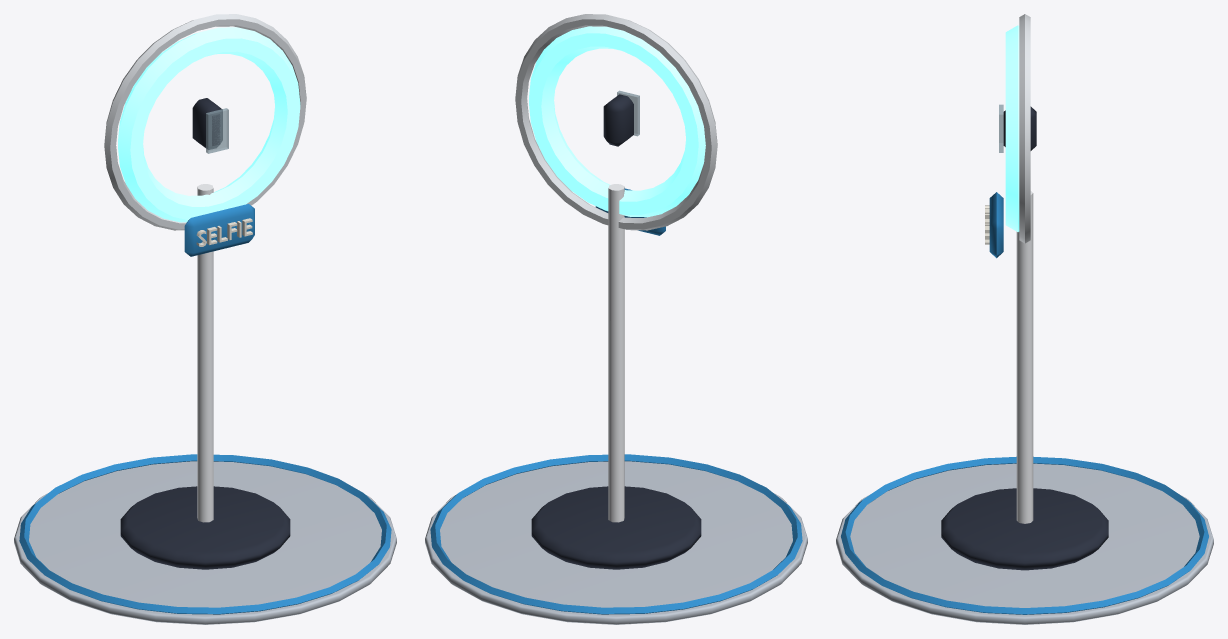
The model's file is selfie_totem.glb.
The picture shows the model from 3 angles, left to right: view 1: azimuth 30°, elevation 25°; view 2: azimuth 150°, elevation 25°; view 3: azimuth 270°, elevation 25°; orthographic projection.
Visible parts, largest first — view 1: selfie_totem; view 2: selfie_totem; view 3: selfie_totem.
Boxes of the visible parts, x1,y1,x2,y2 form: selfie_totem: (14, 14, 396, 624); selfie_totem: (425, 14, 807, 624); selfie_totem: (836, 14, 1213, 624).
Bounding box in the file's own units: 1.6 × 2.44 × 1.6.
